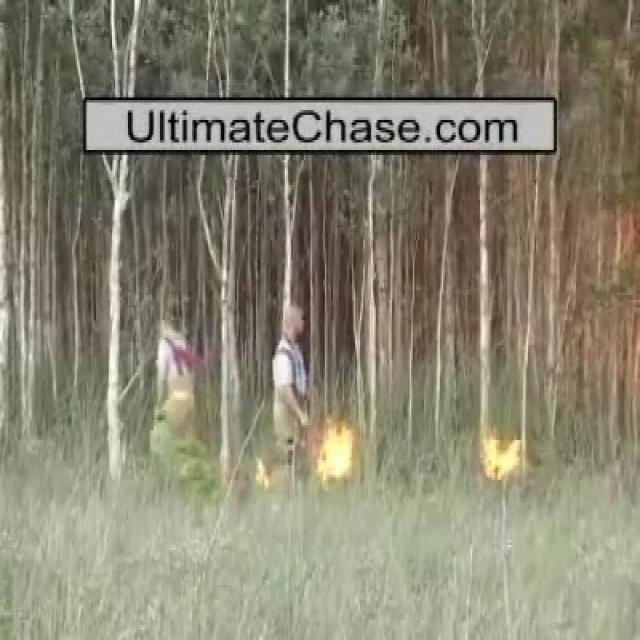fire: (320, 430, 353, 480), (482, 439, 521, 480)
